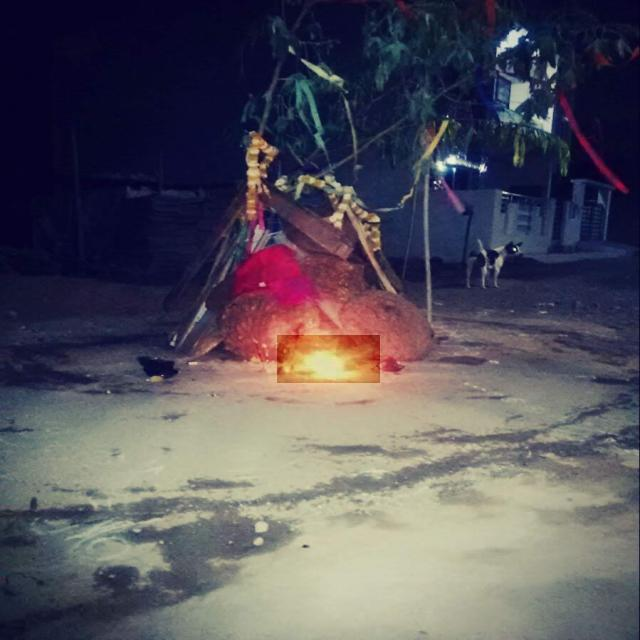Fire: (277, 335, 380, 383)
